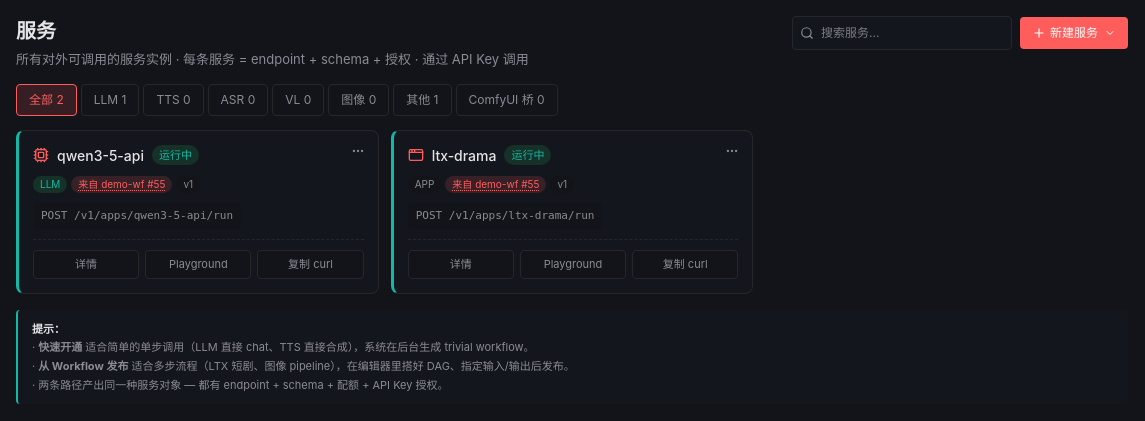
it: ServicesList card click → navigate › category=null 的 llm 服务按 type 归入 LLM 分类(真机:qwen3-5-api type=llm/category=null 被误归「其他」)
This screenshot has width=1145, height=421.
Click the button "LLM 1" at (110, 100), box [81, 84, 139, 116]
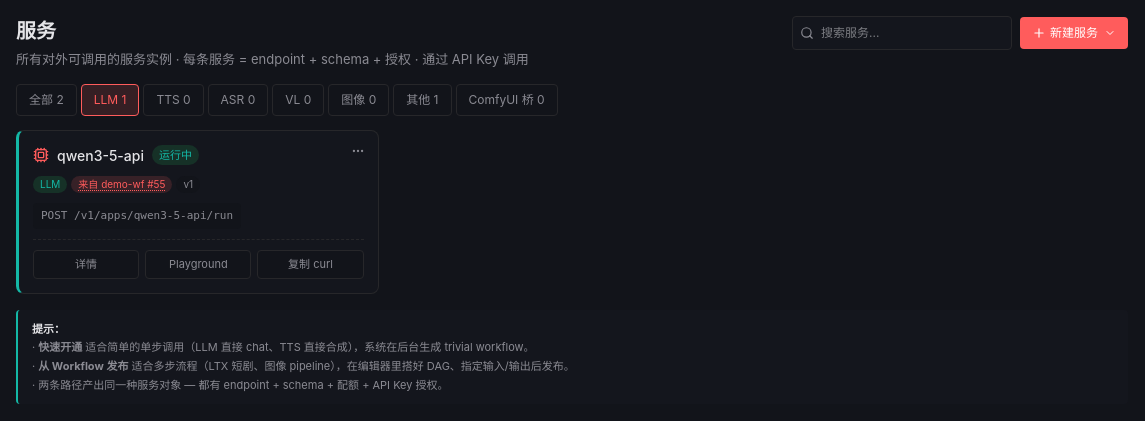
expect the text "qwen3-5-api" is shown: met, box [57, 144, 144, 166]
expect the button "ltx-drama" is gone: met
